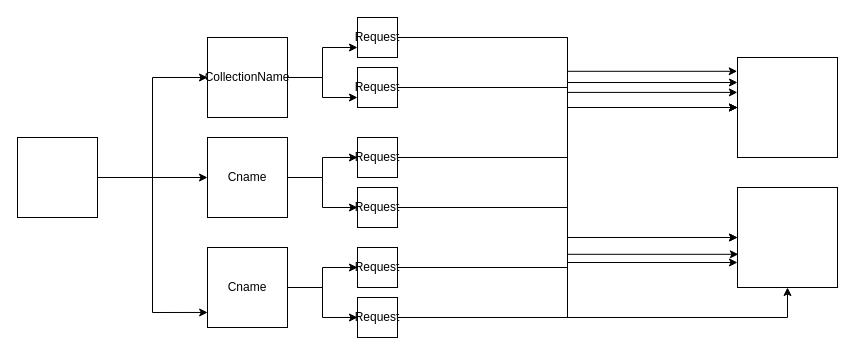
The diagram is 855 pixels wide and 355 high, and some of its shapes have lost their labels. Each missing label, with the box of its shape:
Collection: (16, 136, 98, 218)
RequestOption: (736, 56, 838, 158)
Response: (736, 186, 838, 288)
